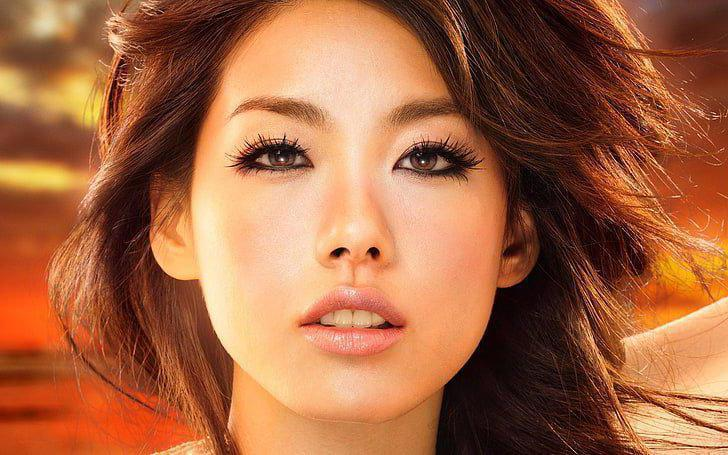Sober: (215, 38, 492, 396)
